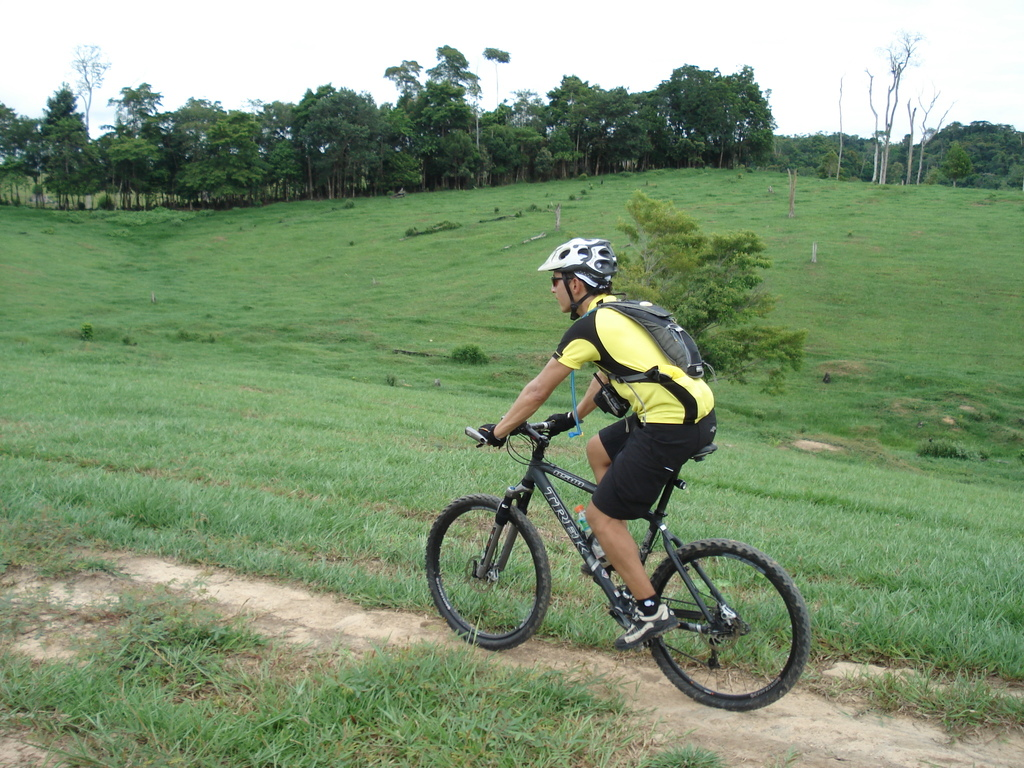Bike: (393, 419, 848, 731)
